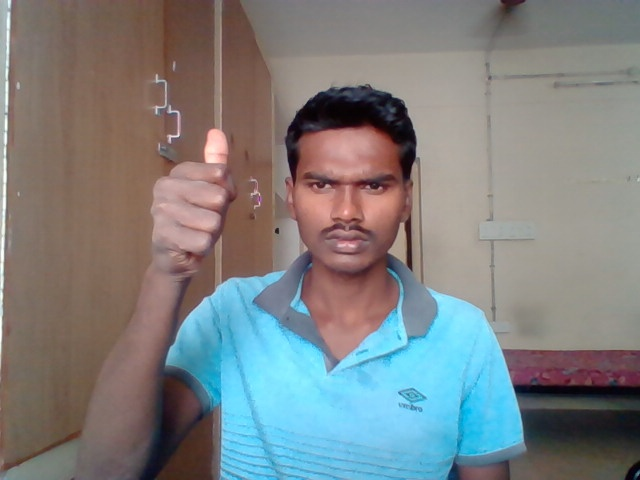Yes: (143, 126, 233, 279)
